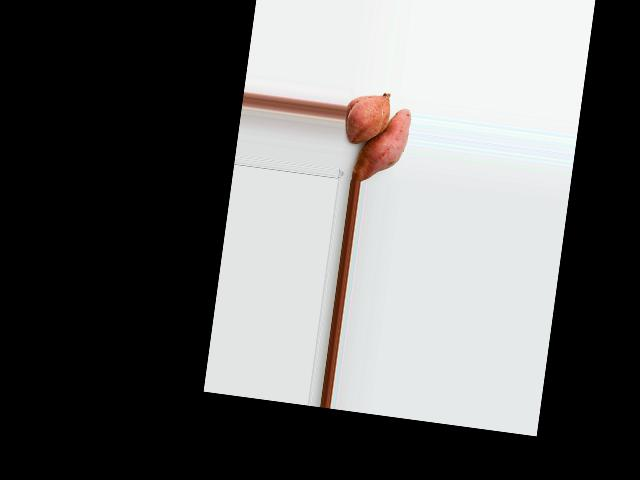sweet_potato: (348, 88, 389, 144)
